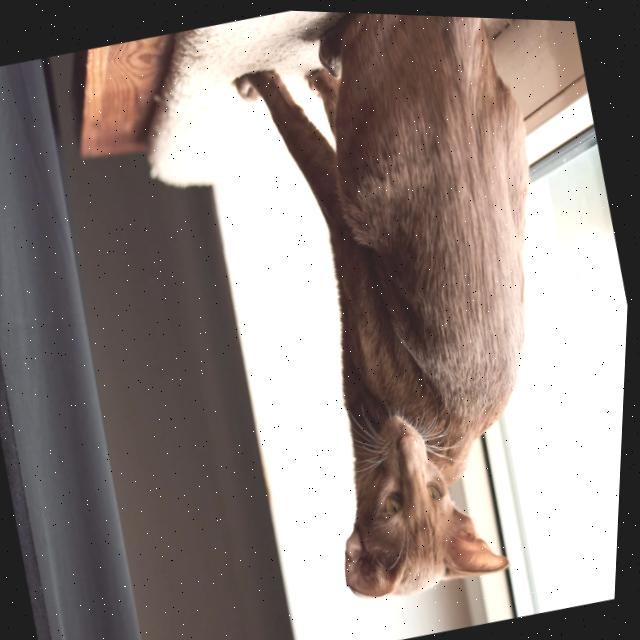Oriental: (196, 6, 640, 625)
